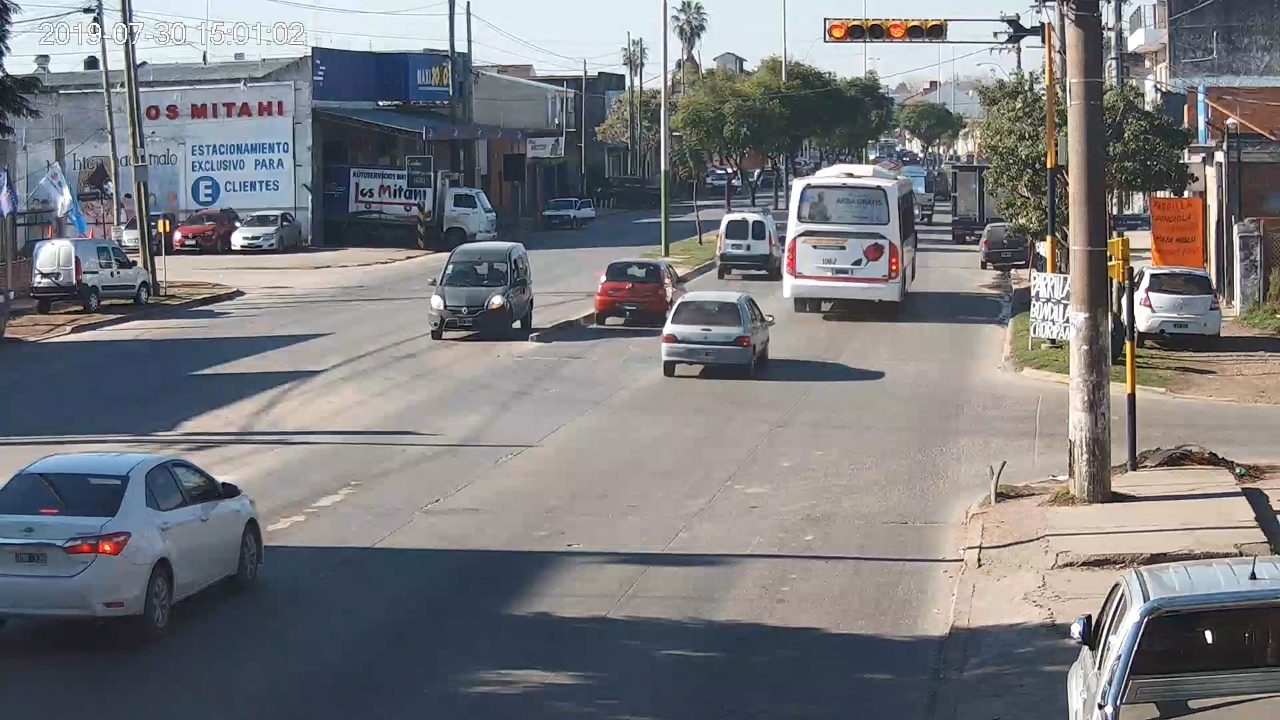bus: (783, 177, 918, 313)
car: (1, 454, 262, 627), (662, 291, 775, 379), (716, 214, 782, 279)
front car: (428, 241, 534, 340)
traffic light: (827, 17, 947, 43)
